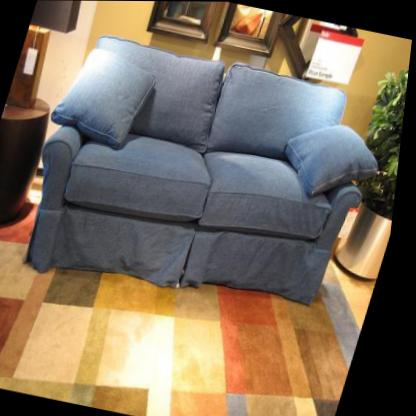Sofa: (6, 32, 402, 332)
